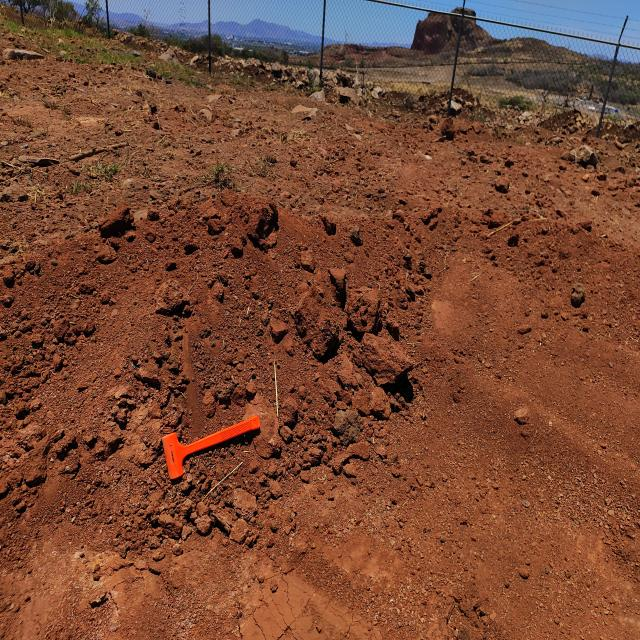Orange_hammer: (161, 413, 261, 480)
